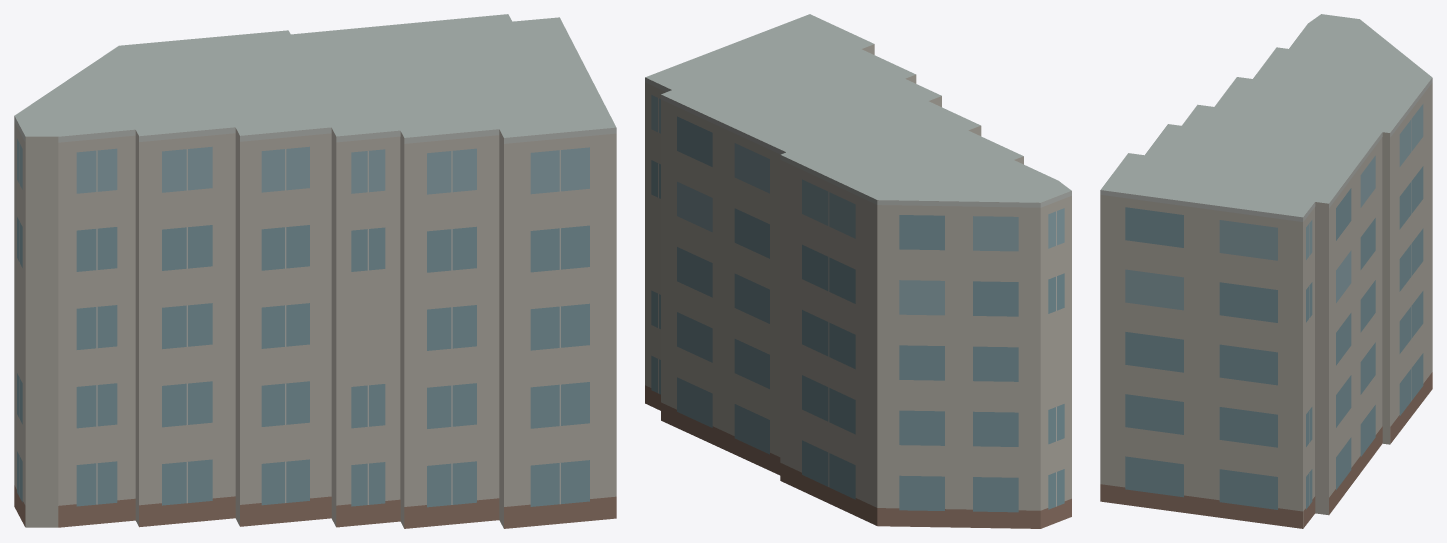
Rendered from survey-upis-32579350.glb.
3 renders of one model, left to right at view 1: azimuth 30°, elevation 25°; view 2: azimuth 150°, elevation 25°; view 3: azimuth 270°, elevation 25°, orthographic. The views are drawn at different scales.
Visible parts, largest first — view 1: survey-upis-32579350.tmp; view 2: survey-upis-32579350.tmp; view 3: survey-upis-32579350.tmp.
Part boxes in pixels (x1,y1,x2,y2): survey-upis-32579350.tmp: (14, 14, 616, 528); survey-upis-32579350.tmp: (645, 14, 1071, 528); survey-upis-32579350.tmp: (1100, 14, 1432, 528).
Size of the model in its own units: 22.41 by 16 by 15.47.
